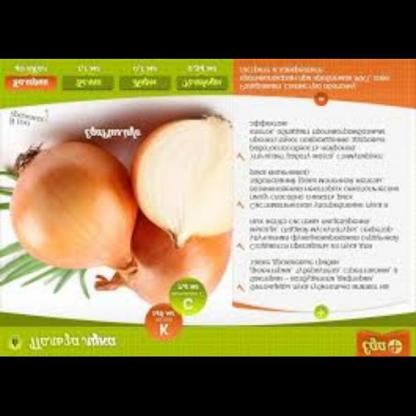onion: (12, 139, 144, 278), (91, 211, 248, 319), (132, 111, 246, 252)
